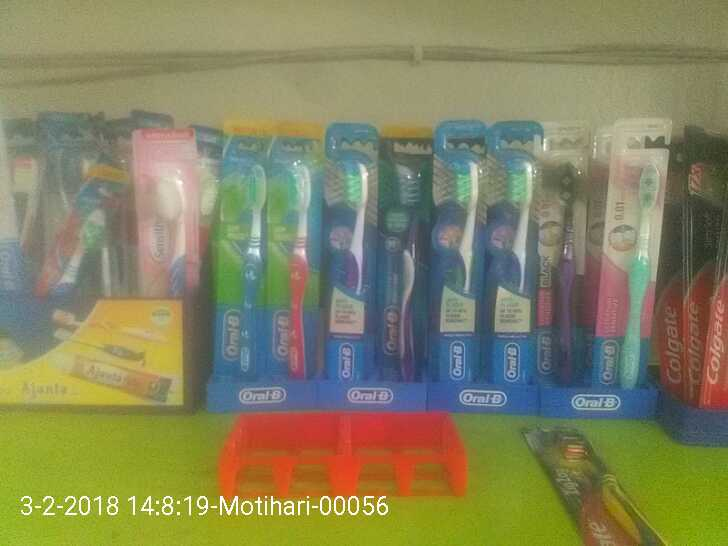oralb: (590, 111, 670, 391), (268, 119, 333, 391), (428, 113, 491, 388), (486, 115, 542, 390), (323, 119, 381, 384), (378, 123, 436, 384), (220, 115, 267, 384)
